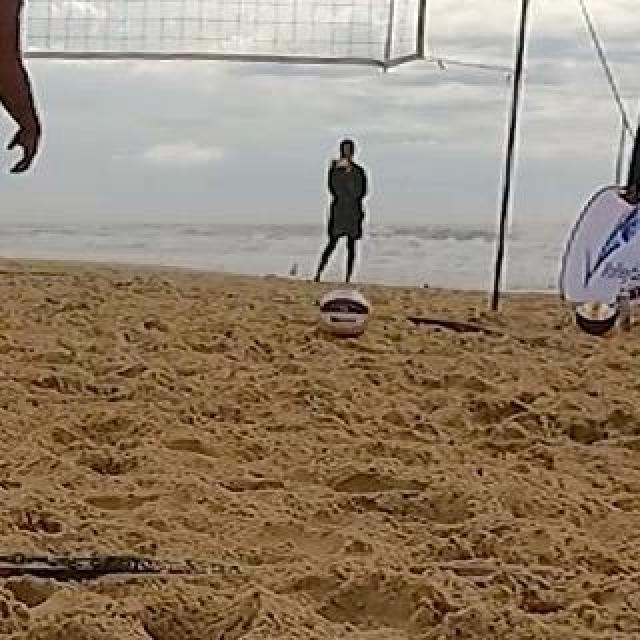volleyball: (319, 287, 373, 337), (575, 301, 621, 343)
